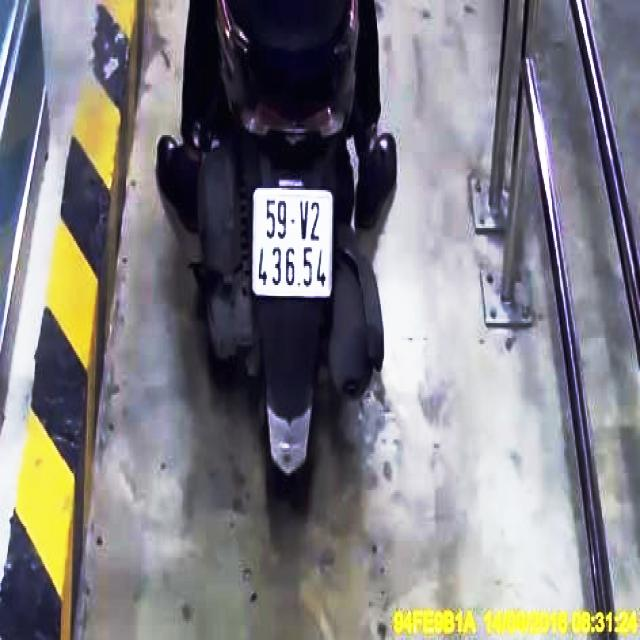license_plate: (253, 191, 334, 297)
